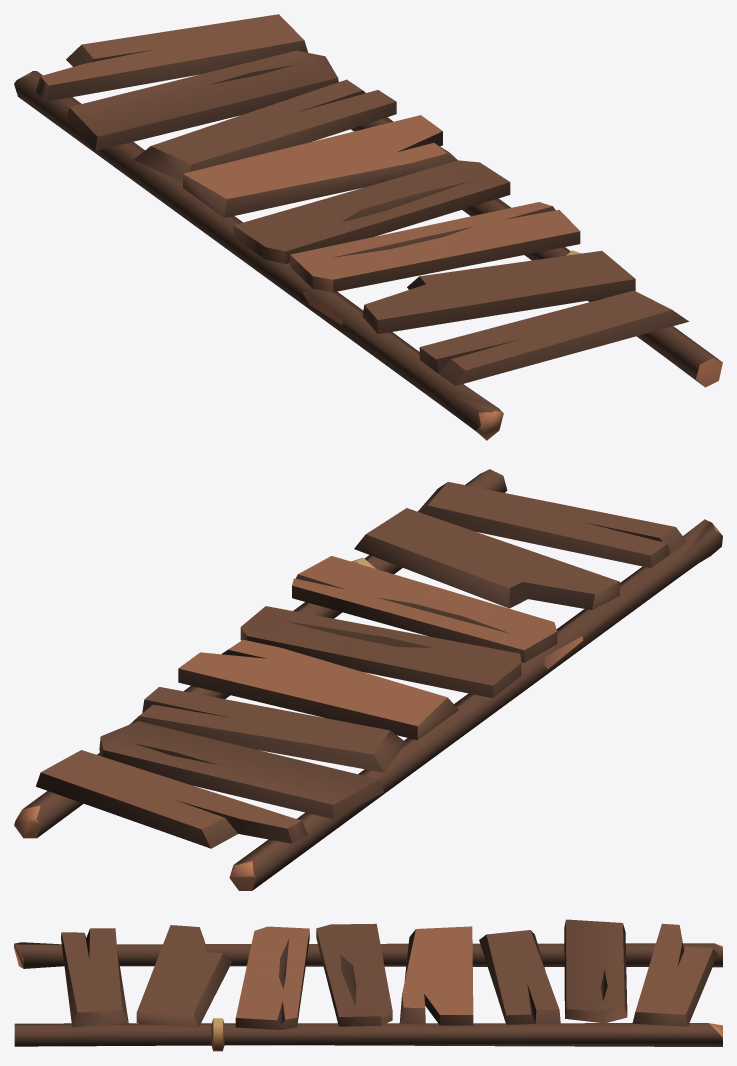
File: Suspended_Bridge_2C.fbx
3 renders of one model, top to bottom at view 1: azimuth 30°, elevation 25°; view 2: azimuth 150°, elevation 25°; view 3: azimuth 270°, elevation 25°, orthographic. The views are drawn at different scales.
Visible parts, largest first — view 1: Suspended_Bridge_2C; view 2: Suspended_Bridge_2C; view 3: Suspended_Bridge_2C.
Part boxes in pixels (x1=…): Suspended_Bridge_2C: x1=14, y1=14, x2=722, y2=440; Suspended_Bridge_2C: x1=14, y1=469, x2=722, y2=890; Suspended_Bridge_2C: x1=14, y1=919, x2=722, y2=1051.
Bounding box in the file's own units: 205 × 38.78 × 601.
